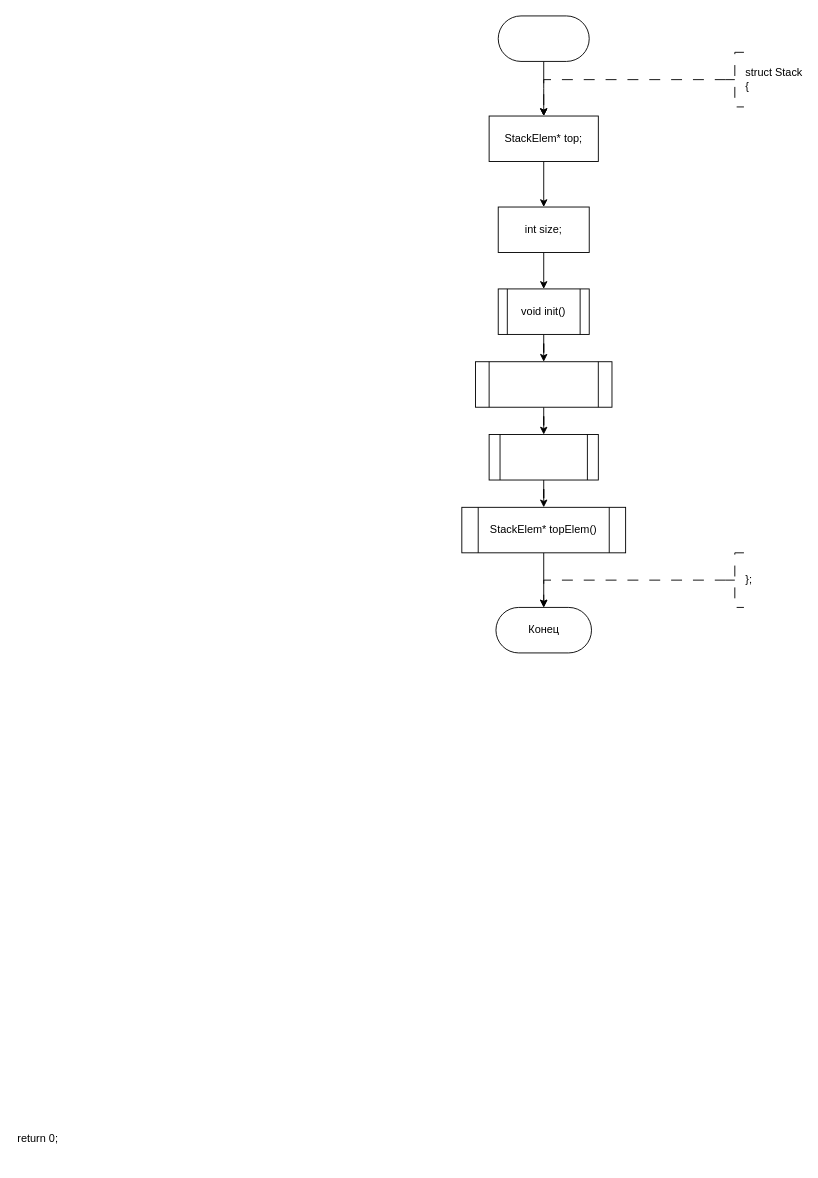
Some shapes in this 818 by 1178 pixel diagram are drawn without their labels. Each missing label, with the centre of its shape:
int pop(): the point at 543,457
void push(int data): the point at 543,384
Начало: the point at 543,38
